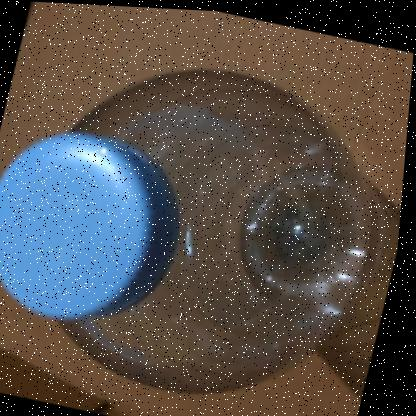bottle cap: (1, 1, 416, 416)
